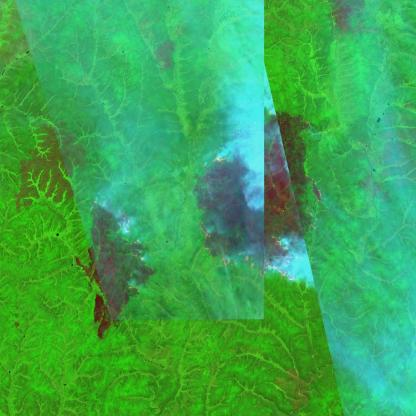fire: (197, 110, 323, 285), (87, 191, 150, 298)
